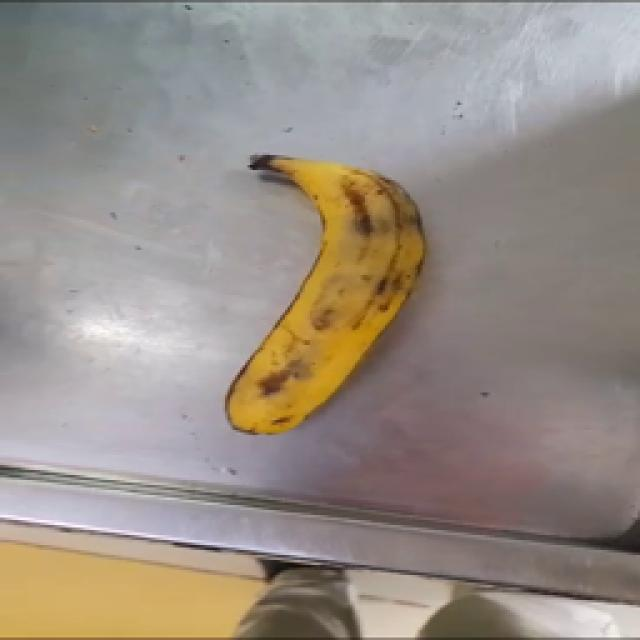Rotten_Banana: (203, 135, 447, 442)
